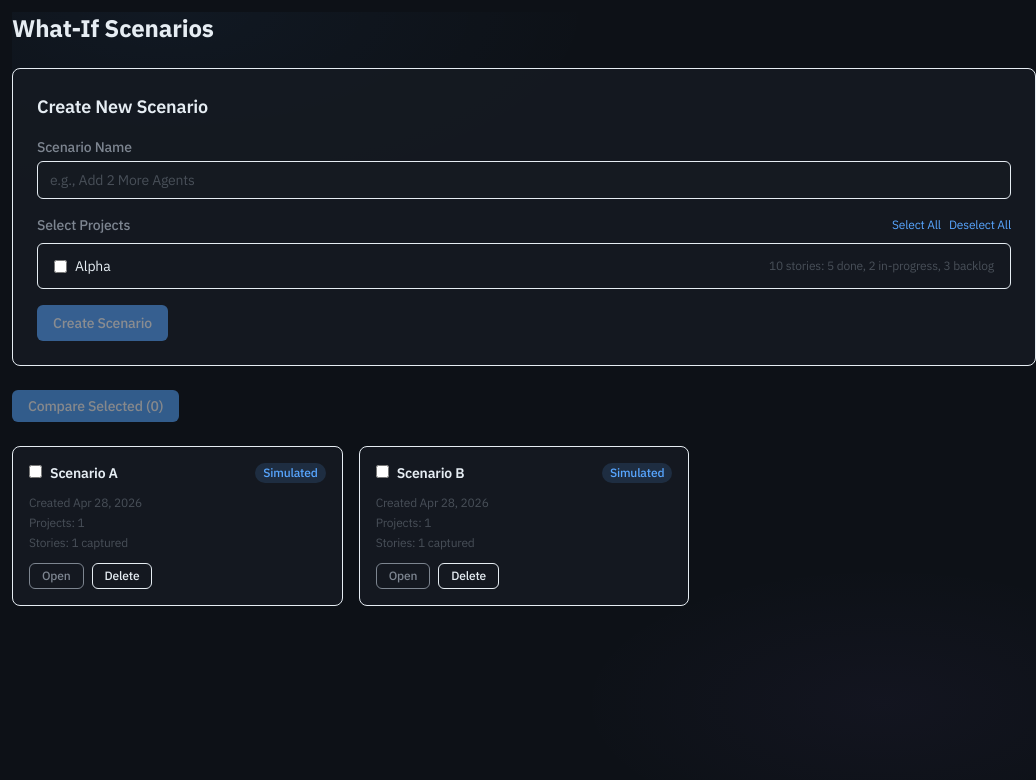
Test case: ScenariosView › selecting 2 simulated scenarios enables compare button
# Select both
Click the checkbox named "Select Scenario A": [36, 472] box [29,465,42,478]
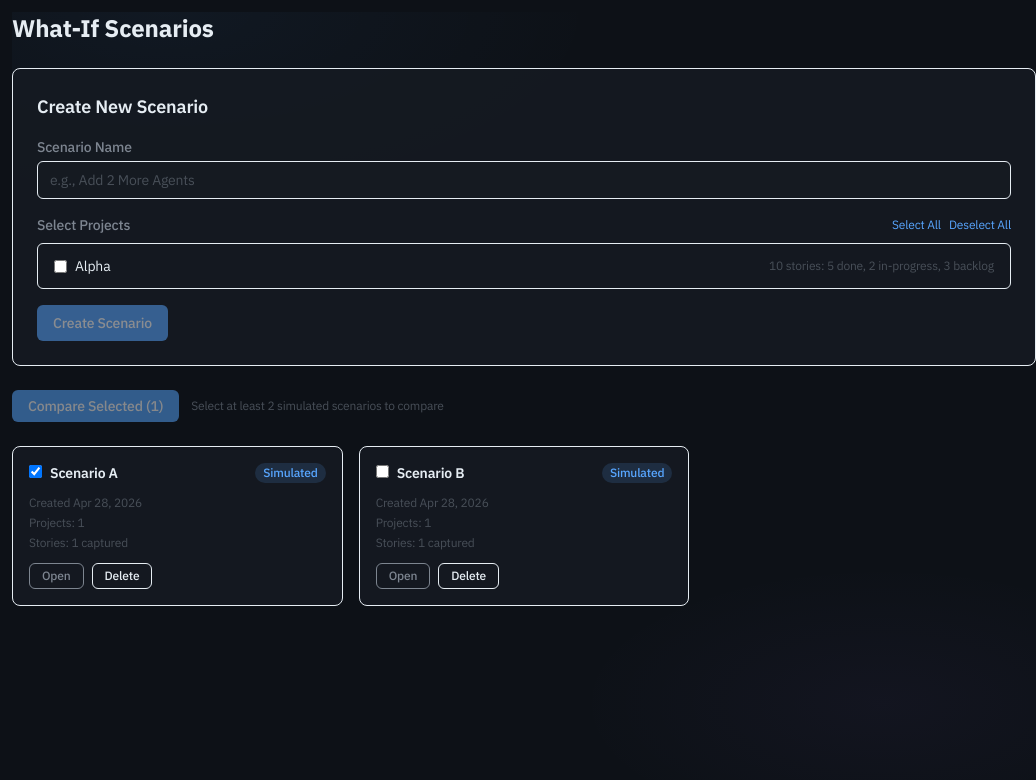
Click the checkbox named "Select Scenario B": [382, 472] box [376,465,389,478]
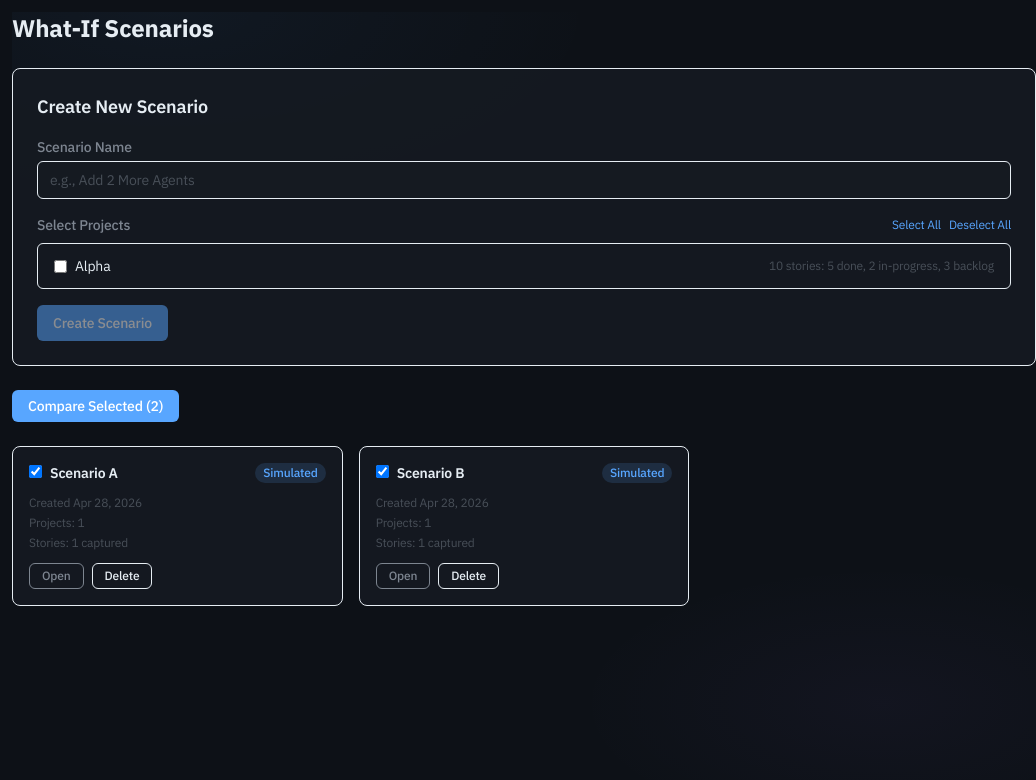
expect the button "Compare Selected (2)" is enabled: met, box [12,390,179,422]
